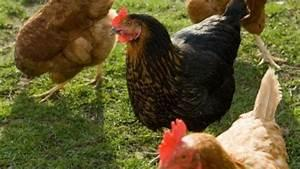hen: (110, 1, 252, 134), (155, 65, 290, 168), (13, 0, 119, 103), (184, 0, 281, 70)
